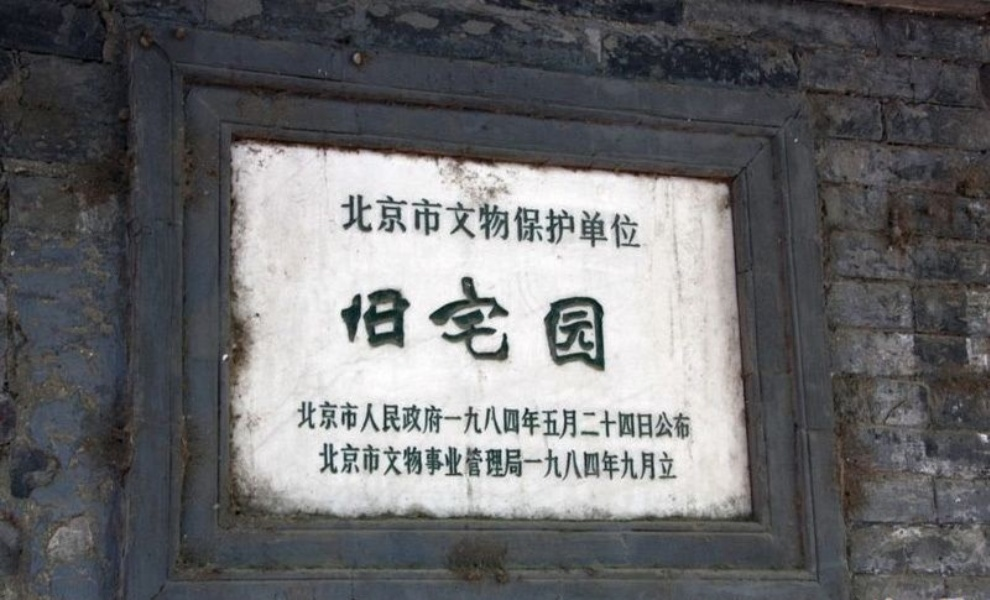text: (353, 266, 368, 374), (369, 266, 384, 374), (385, 266, 400, 374), (401, 266, 416, 374), (417, 266, 432, 374), (433, 266, 448, 374), (449, 266, 464, 374), (465, 266, 480, 374), (481, 266, 496, 374), (497, 266, 512, 374), (513, 266, 528, 374), (529, 266, 544, 374), (545, 266, 560, 374), (561, 266, 576, 374), (577, 266, 592, 374), (593, 266, 608, 374), (353, 191, 368, 253), (369, 191, 384, 253), (385, 191, 400, 253), (401, 191, 416, 253), (417, 191, 432, 253), (433, 191, 448, 253), (449, 191, 464, 253), (465, 191, 480, 253), (481, 191, 496, 253), (497, 191, 512, 253), (513, 191, 528, 253), (529, 191, 544, 253), (545, 191, 560, 253), (561, 191, 576, 253), (577, 191, 592, 253), (593, 191, 608, 253), (609, 191, 624, 253), (625, 191, 640, 253), (345, 266, 352, 374), (340, 191, 352, 253), (305, 399, 320, 442), (321, 399, 336, 442), (337, 399, 352, 442), (353, 399, 368, 442), (369, 399, 384, 442), (385, 399, 400, 442), (401, 399, 416, 442), (417, 399, 432, 442), (433, 399, 448, 442), (449, 399, 464, 442), (465, 399, 480, 442), (481, 399, 496, 442), (497, 399, 512, 442), (513, 399, 528, 442), (529, 399, 544, 442), (545, 399, 560, 442), (561, 399, 576, 442), (577, 399, 592, 442), (593, 399, 608, 442), (609, 399, 624, 442), (625, 399, 640, 442), (641, 399, 656, 442), (657, 399, 672, 442), (673, 399, 688, 442), (321, 442, 336, 483), (337, 442, 352, 483), (353, 442, 368, 483), (369, 442, 384, 483), (385, 442, 400, 483), (401, 442, 416, 483), (417, 442, 432, 483), (433, 442, 448, 483), (449, 442, 464, 483), (465, 442, 480, 483), (481, 442, 496, 483), (497, 442, 512, 483), (513, 442, 528, 483), (529, 442, 544, 483), (545, 442, 560, 483), (561, 442, 576, 483), (577, 442, 592, 483), (593, 442, 608, 483), (609, 442, 624, 483), (625, 442, 640, 483), (641, 442, 656, 483), (657, 442, 672, 483), (609, 266, 614, 374), (689, 399, 695, 442), (673, 442, 679, 483), (299, 399, 304, 442), (641, 191, 643, 253), (317, 442, 320, 483)
